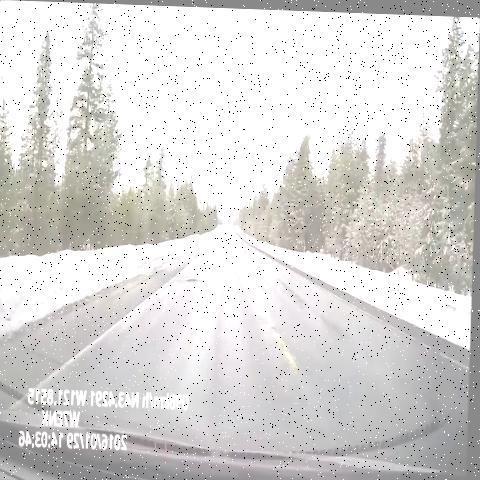pothole: (182, 268, 204, 295)
